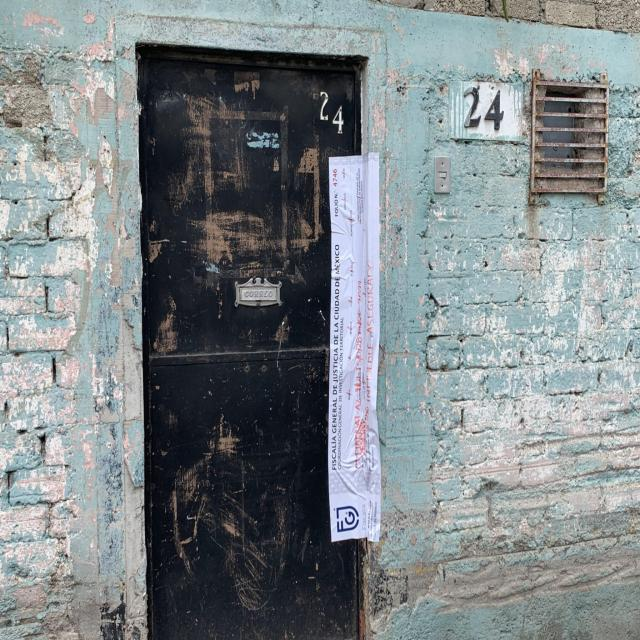stamps: (328, 160, 380, 541)
